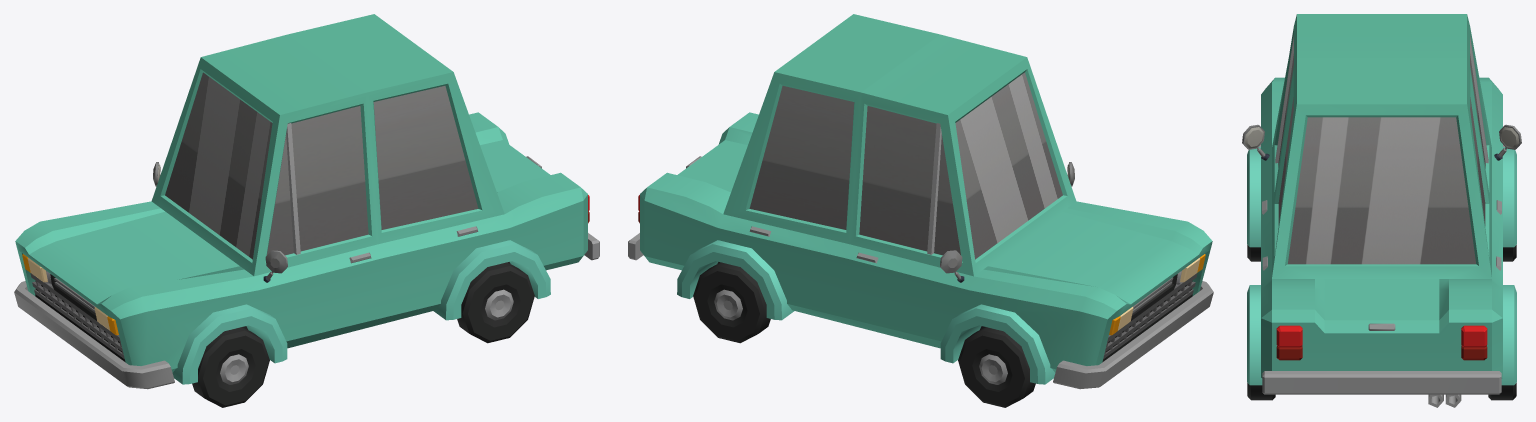
Rendered from Car_4_1_E.gltf.
The picture shows the model from 3 angles, left to right: view 1: azimuth 30°, elevation 25°; view 2: azimuth 150°, elevation 25°; view 3: azimuth 270°, elevation 25°; orthographic projection. The views are drawn at different scales.
Visible parts, largest first — view 1: Car_4_1_E, RL, FL; view 2: Car_4_1_E, RR, FR; view 3: Car_4_1_E, RL, RR.
Part boxes in pixels (bbox=[...]): Car_4_1_E: bbox=[14, 14, 599, 389]; RL: bbox=[457, 262, 534, 343]; FL: bbox=[192, 327, 269, 407]; Car_4_1_E: bbox=[628, 14, 1213, 389]; RR: bbox=[693, 262, 770, 343]; FR: bbox=[958, 327, 1035, 407]; Car_4_1_E: bbox=[1242, 14, 1521, 407]; RL: bbox=[1247, 383, 1275, 400]; RR: bbox=[1488, 383, 1516, 400].
Size of the model in its own units: 3.53 by 1.81 by 1.65.
4 materials, 4 textured.
